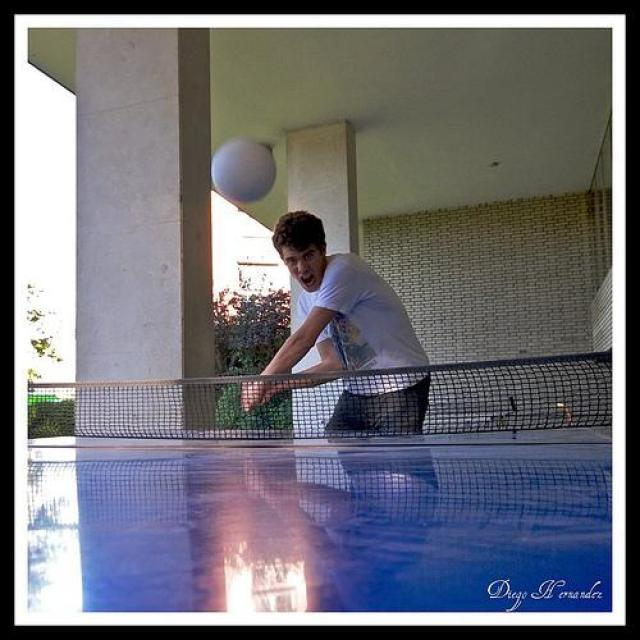ping-pong-ball: (212, 136, 278, 203)
